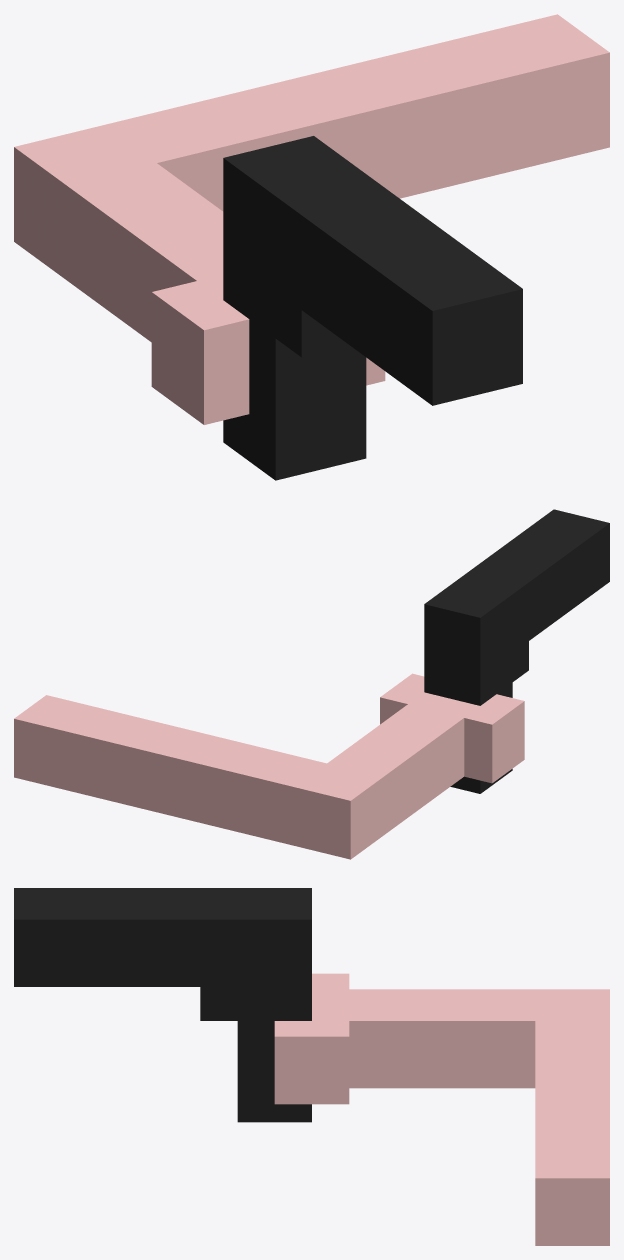
Rendered from RightGunArm.obj.
3 renders of one model, top to bottom at view 1: azimuth 30°, elevation 25°; view 2: azimuth 150°, elevation 25°; view 3: azimuth 270°, elevation 25°, orthographic. The views are drawn at different scales.
Size of the model in its own units: 1.3 by 0.6 by 1.6.
1 material, 1 textured.
